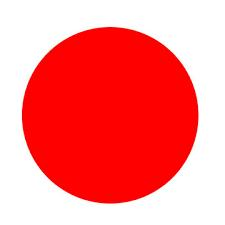red_circle: (9, 16, 212, 216)
